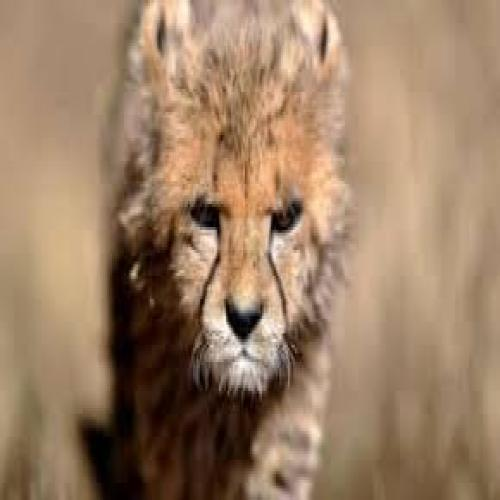cheetah-endangered: (113, 0, 352, 500)
